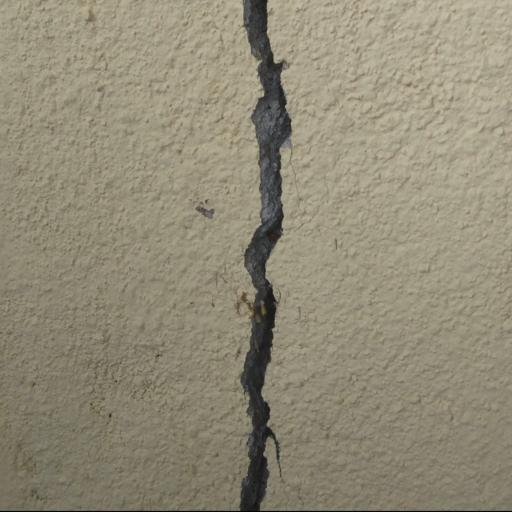major_crack: (224, 0, 306, 512)
